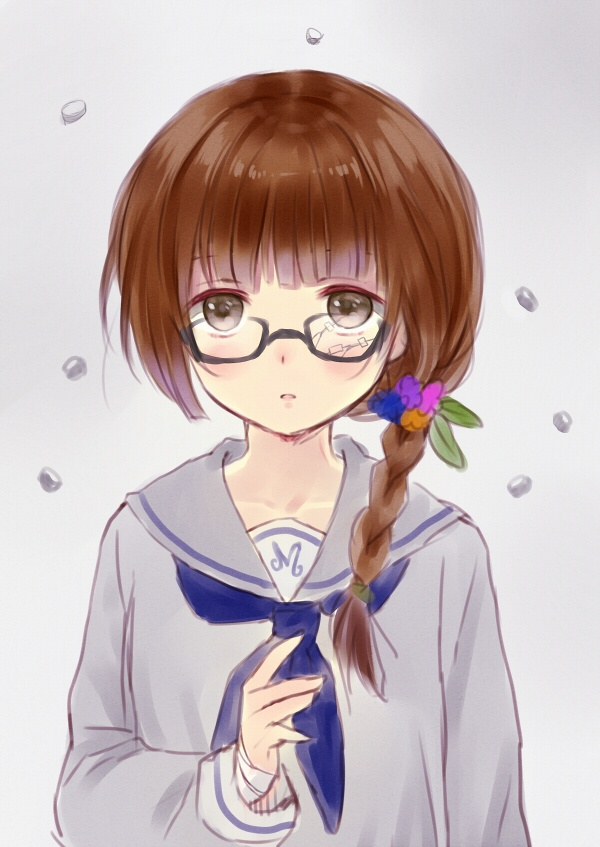纸片人正脸: (117, 62, 469, 451)
